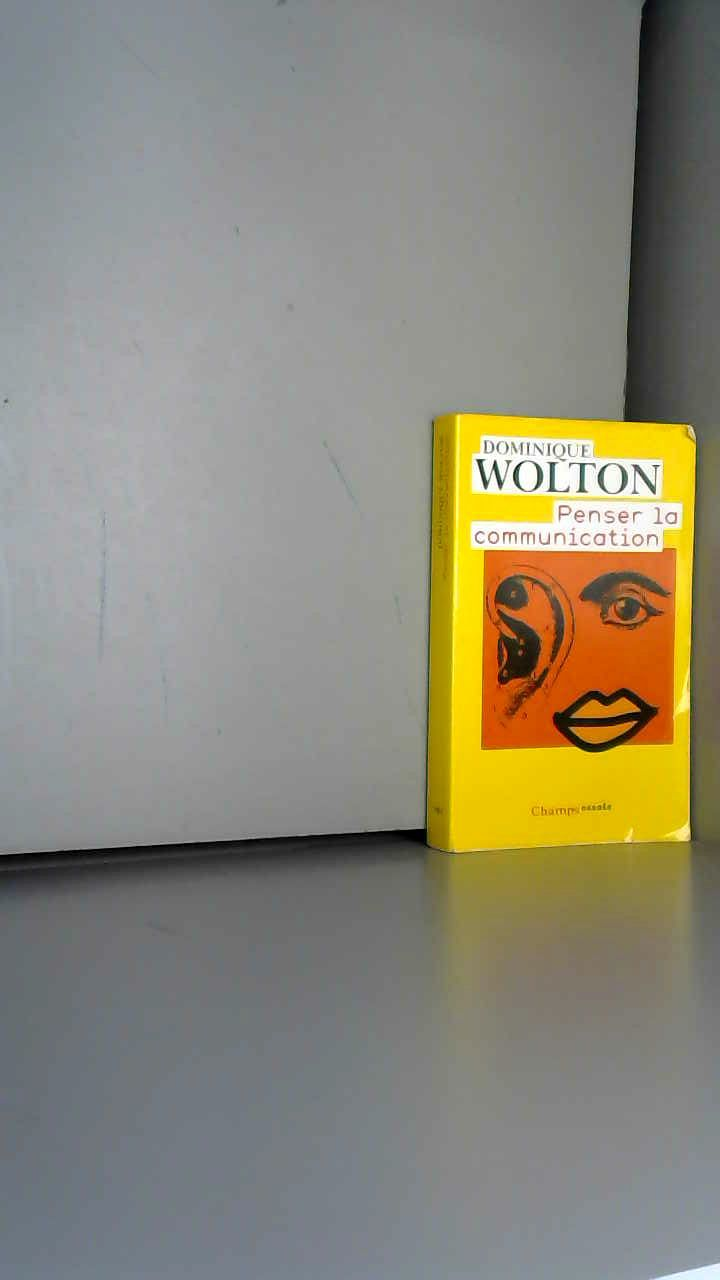book: (420, 380, 718, 925)
